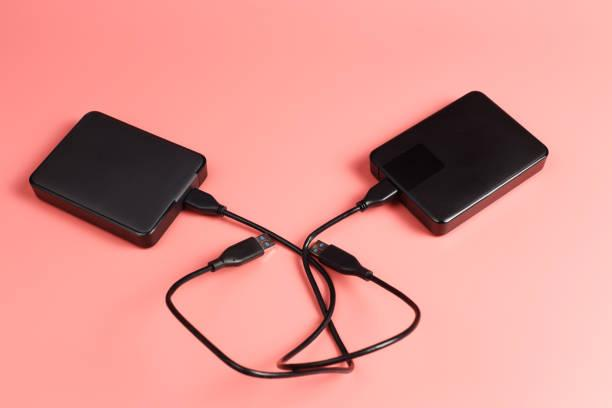HDD: (369, 91, 549, 237), (28, 111, 208, 249)
